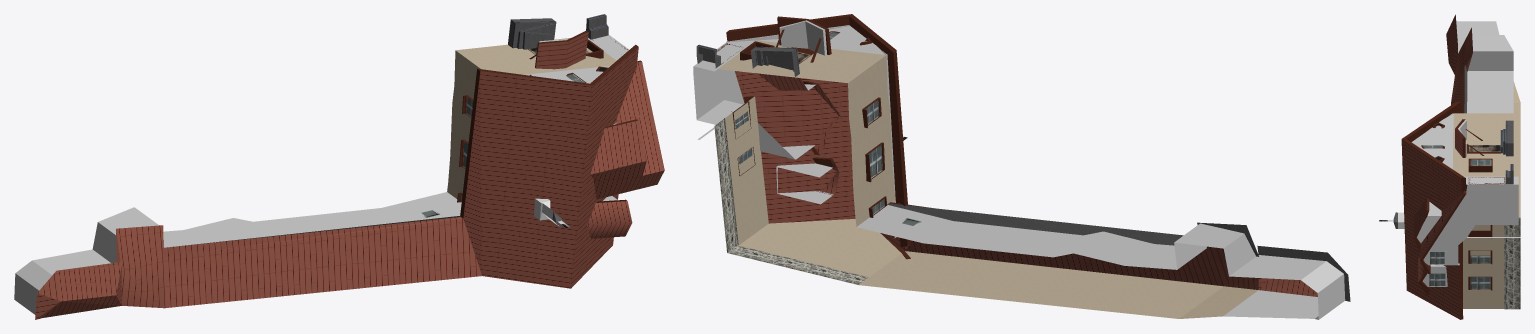
The model's file is Inseneri_2_2-orig.obj.
3 views of the same model, side by side, from view 1: azimuth 30°, elevation 25°; view 2: azimuth 150°, elevation 25°; view 3: azimuth 270°, elevation 25° (orthographic). The views are drawn at different scales.
Visible parts, largest first — view 1: Inseneri_2_2; view 2: Inseneri_2_2; view 3: Inseneri_2_2.
Part boxes in pixels (box(x1,y1,x2,y2)): Inseneri_2_2: box(14, 14, 664, 319); Inseneri_2_2: box(693, 14, 1350, 319); Inseneri_2_2: box(1379, 14, 1520, 319).
Size of the model in its own units: 36.75 by 12.5 by 9.29.
